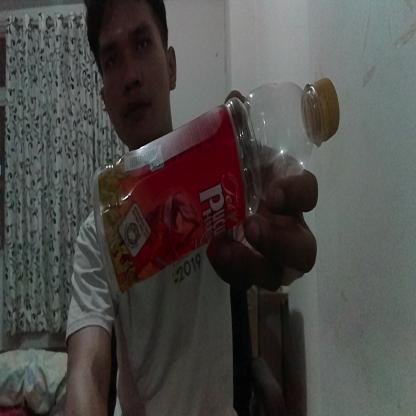plastic_bottles: (90, 79, 341, 296)
